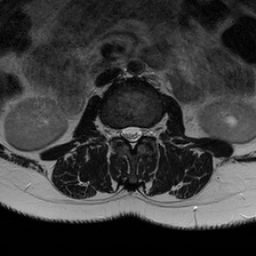CCS_normal: (128, 117, 134, 154)
LFS_normal: (142, 118, 150, 142)
LLS_normal: (134, 117, 142, 146)
RFS_normal: (112, 118, 120, 141)
RLS_normal: (120, 118, 128, 145)
